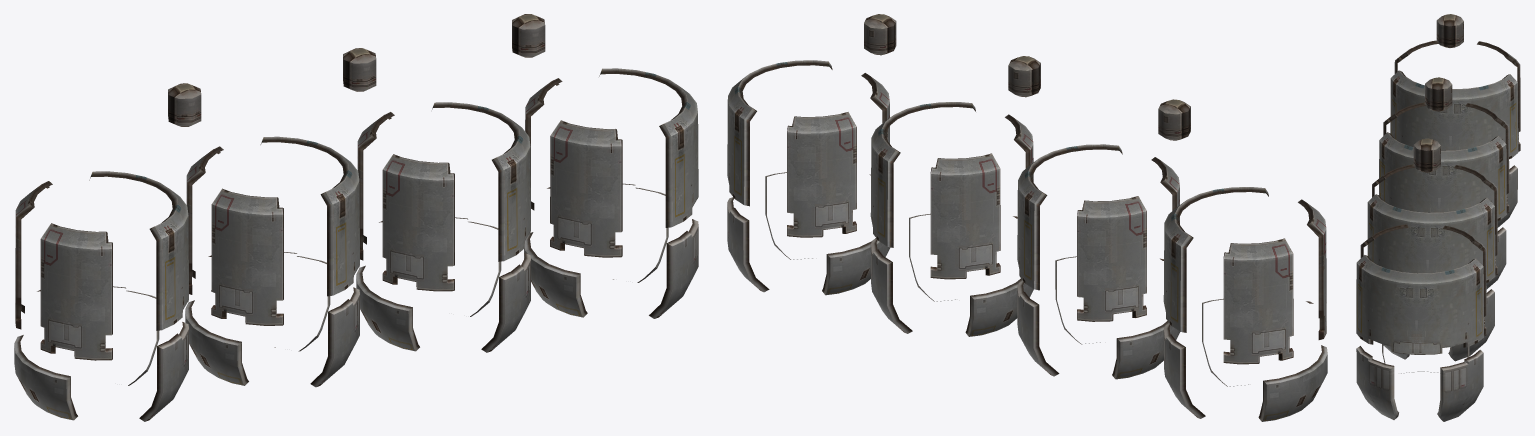
File: prop_static_tr1_container_01_10.glb
The picture shows the model from 3 angles, left to right: view 1: azimuth 30°, elevation 25°; view 2: azimuth 150°, elevation 25°; view 3: azimuth 270°, elevation 25°; orthographic projection. The views are drawn at different scales.
Visible parts, largest first — view 1: tr1_container_01_10_mat01d_LOD0, tr1_container_01_10_mat01a_LOD0, tr1_container_01_10_mat01b_LOD0; view 2: tr1_container_01_10_mat01d_LOD0, tr1_container_01_10_mat01a_LOD0, tr1_container_01_10_mat01b_LOD0; view 3: tr1_container_01_10_mat01d_LOD0, tr1_container_01_10_mat01b_LOD0, tr1_container_01_10_mat01a_LOD0.
Boxes of the visible parts, <box> form: tr1_container_01_10_mat01d_LOD0: <box>14,136,359,421</box>; tr1_container_01_10_mat01a_LOD0: <box>168,14,545,352</box>; tr1_container_01_10_mat01b_LOD0: <box>524,68,698,318</box>; tr1_container_01_10_mat01d_LOD0: <box>1017,144,1327,421</box>; tr1_container_01_10_mat01a_LOD0: <box>864,14,1190,336</box>; tr1_container_01_10_mat01b_LOD0: <box>727,60,890,295</box>; tr1_container_01_10_mat01d_LOD0: <box>1379,40,1520,289</box>; tr1_container_01_10_mat01b_LOD0: <box>1356,224,1486,421</box>; tr1_container_01_10_mat01a_LOD0: <box>1367,14,1497,361</box>.
Size of what is drawn, in the model's own units: 11.63 by 5.27 by 3.35.
3 materials, 3 textured.
